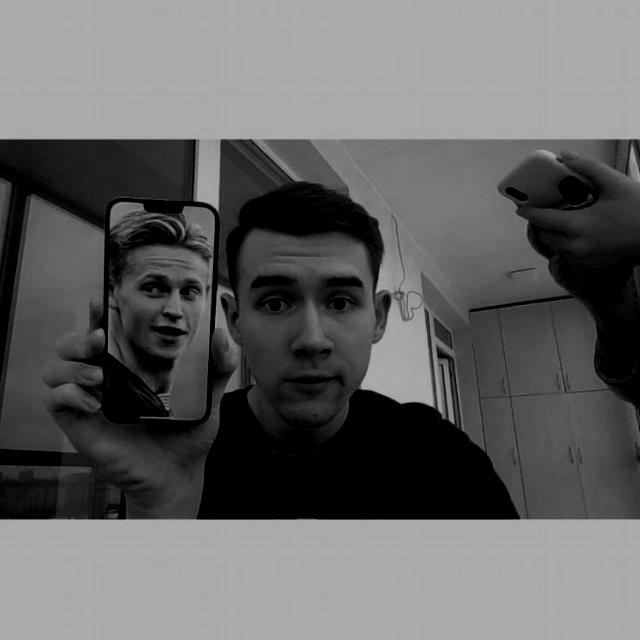fake: (94, 194, 226, 431)
real: (244, 236, 373, 426)
